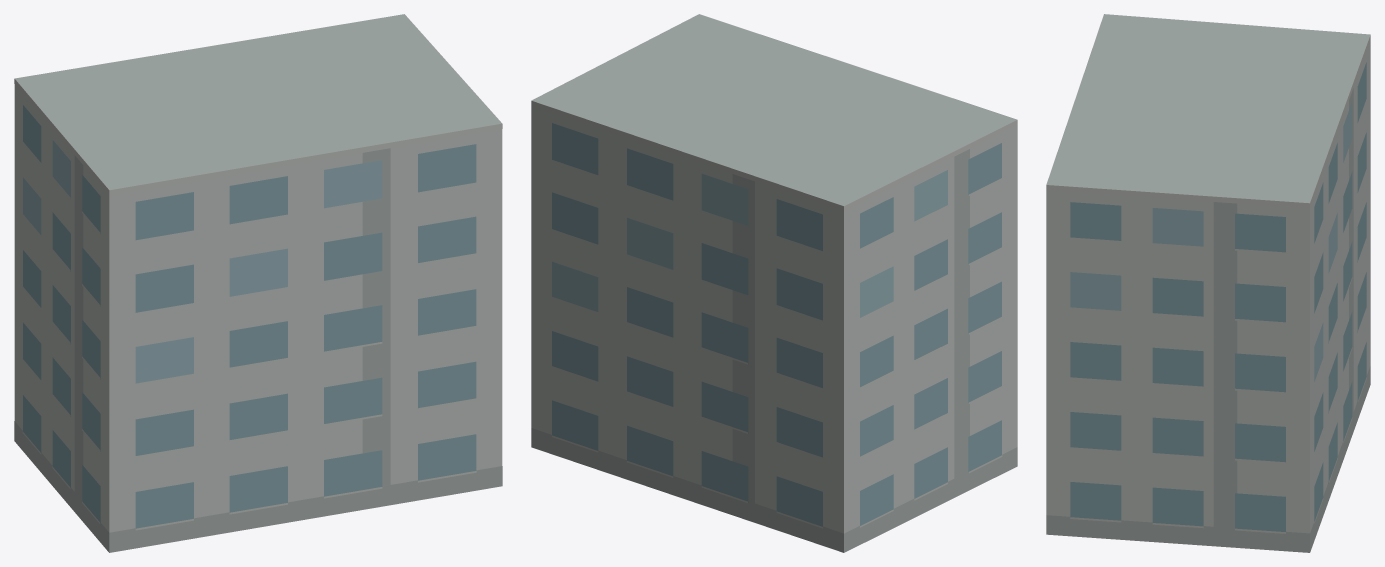
File: survey-upis-32924775.glb
3 views of the same model, side by side, from view 1: azimuth 30°, elevation 25°; view 2: azimuth 150°, elevation 25°; view 3: azimuth 270°, elevation 25° (orthographic). The views are drawn at different scales.
Visible parts, largest first — view 1: survey-upis-32924775.tmp; view 2: survey-upis-32924775.tmp; view 3: survey-upis-32924775.tmp.
Part boxes in pixels (bbox=[...]): survey-upis-32924775.tmp: bbox=[14, 14, 502, 552]; survey-upis-32924775.tmp: bbox=[531, 14, 1017, 552]; survey-upis-32924775.tmp: bbox=[1046, 14, 1370, 552].
Size of the model in its own units: 18.46 by 15.9 by 13.38.
